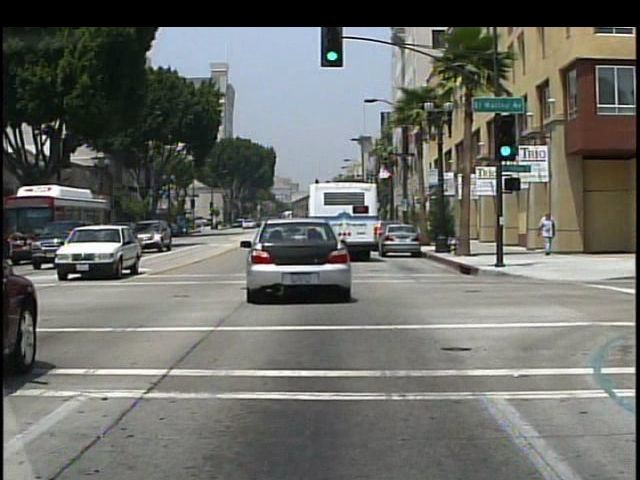person: (538, 211, 557, 256)
